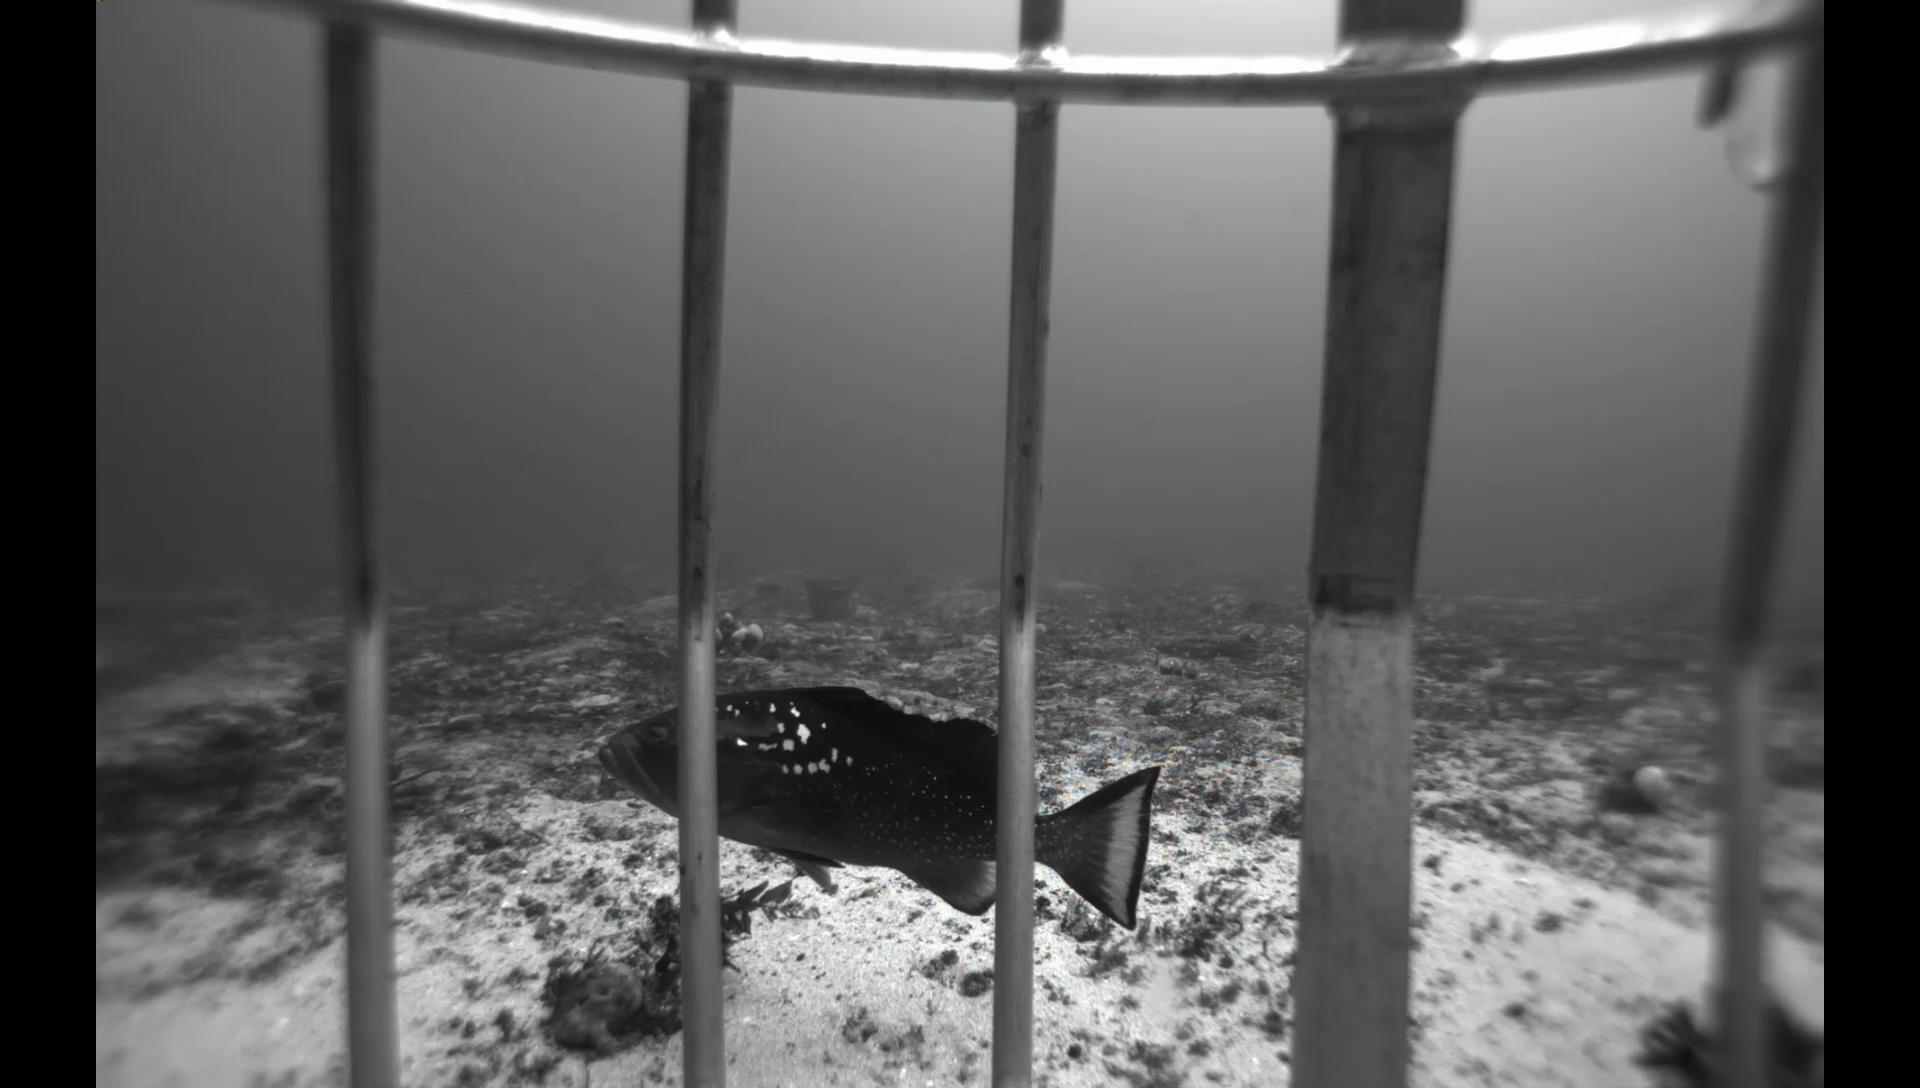CHAETODONOCELLATUS-170260307: (1425, 592, 1464, 622)
EPINEPHELUSMORIO-170021211: (574, 679, 1164, 942)
PRISTIGENYSALTA-170050401: (294, 674, 344, 717)
